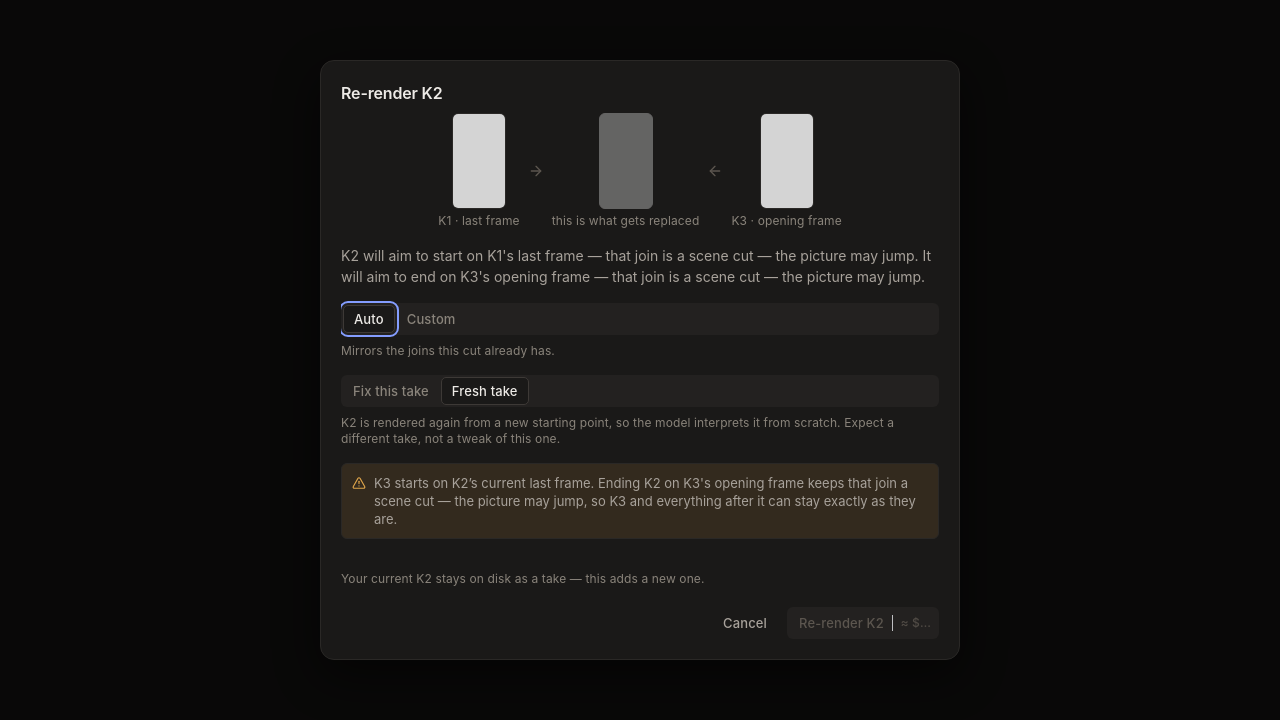
Scenario: SegmentRerenderDialog — what it warns about (D16) › …and the offer returns the moment the ending is left unpinned
Click the radio button labelled "Custom" at point(431, 319), box [397,305,466,333]
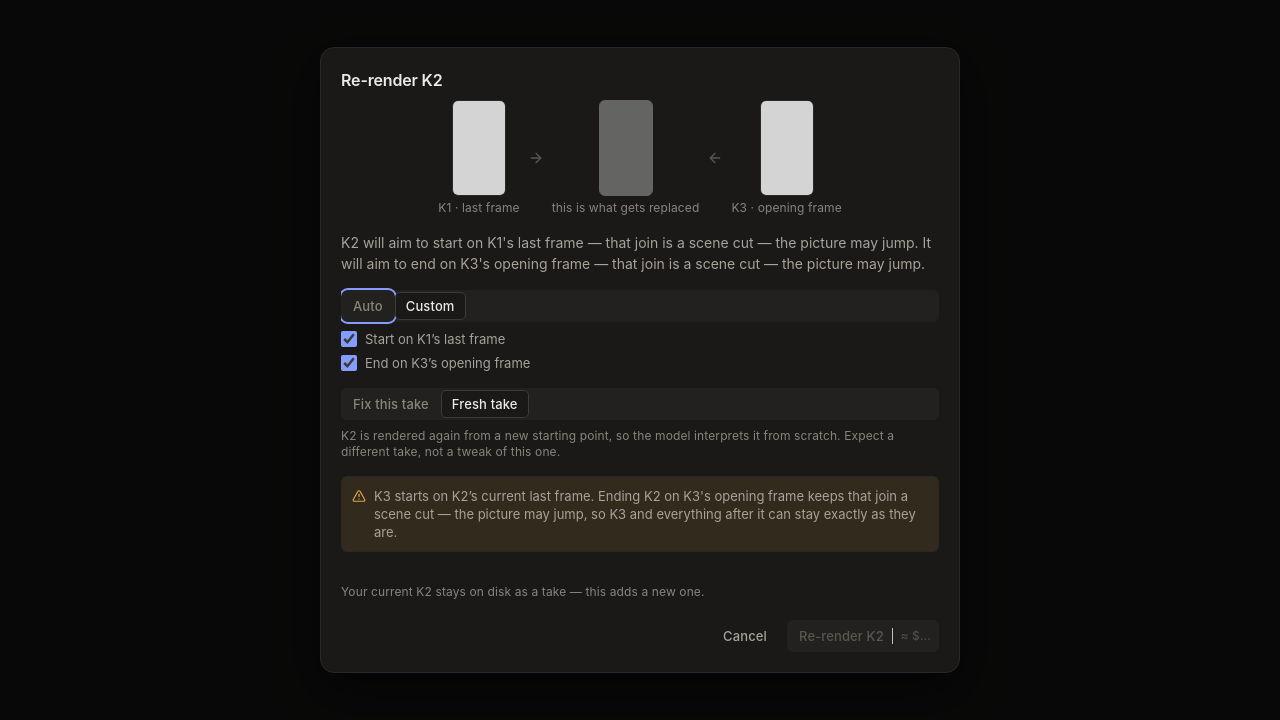
Click the checkbox labelled "End on K3’s opening frame" at point(349, 363), box [341,355,357,371]
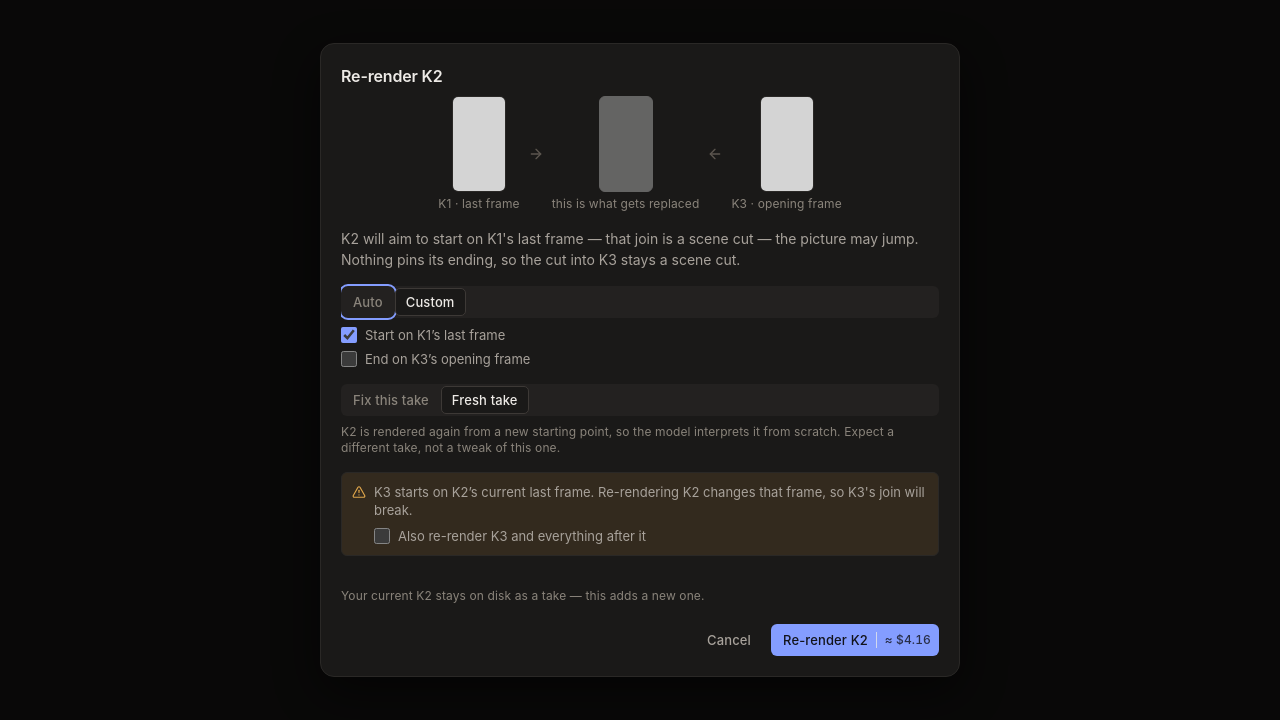
Expected: the checkbox labelled "Also re-render K3 and everything after it" is shown, [374,528,390,544]
